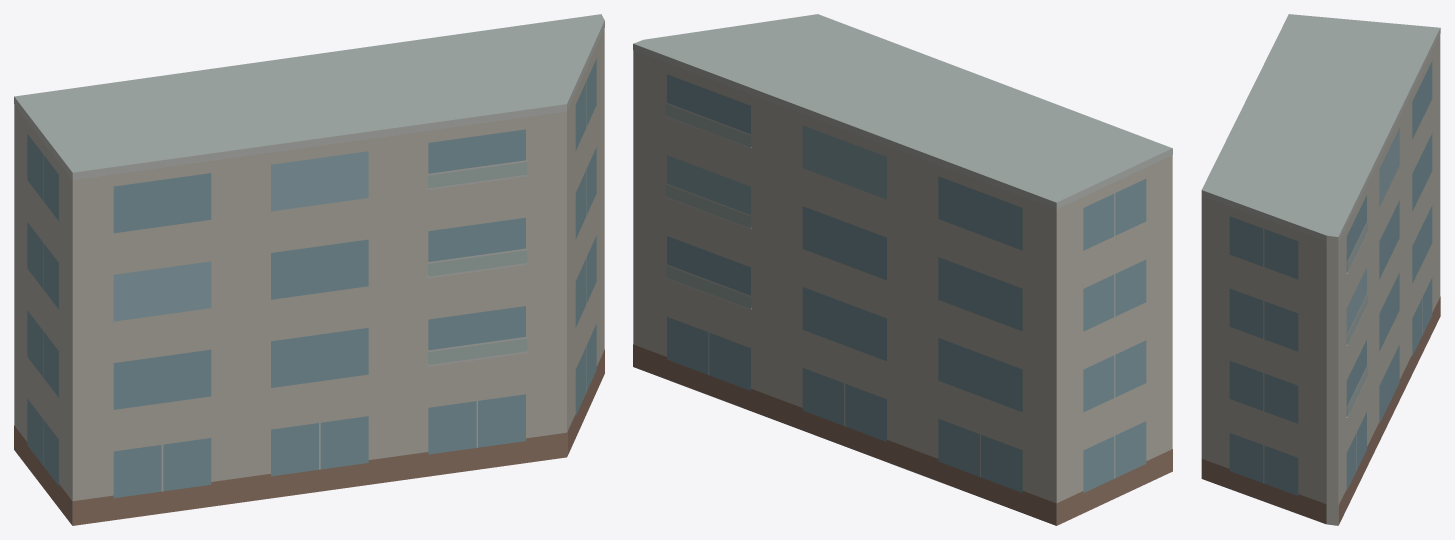
The model's file is survey-upis-32720682.glb.
3 renders of one model, left to right at view 1: azimuth 30°, elevation 25°; view 2: azimuth 150°, elevation 25°; view 3: azimuth 270°, elevation 25°, orthographic. The views are drawn at different scales.
Visible parts, largest first — view 1: survey-upis-32720682.tmp; view 2: survey-upis-32720682.tmp; view 3: survey-upis-32720682.tmp.
Part boxes in pixels (x1=…): survey-upis-32720682.tmp: x1=14, y1=14, x2=604, y2=525; survey-upis-32720682.tmp: x1=633, y1=14, x2=1172, y2=525; survey-upis-32720682.tmp: x1=1201, y1=14, x2=1440, y2=525.
Bounding box in the file's own units: 19.39 × 11.7 × 8.78.
